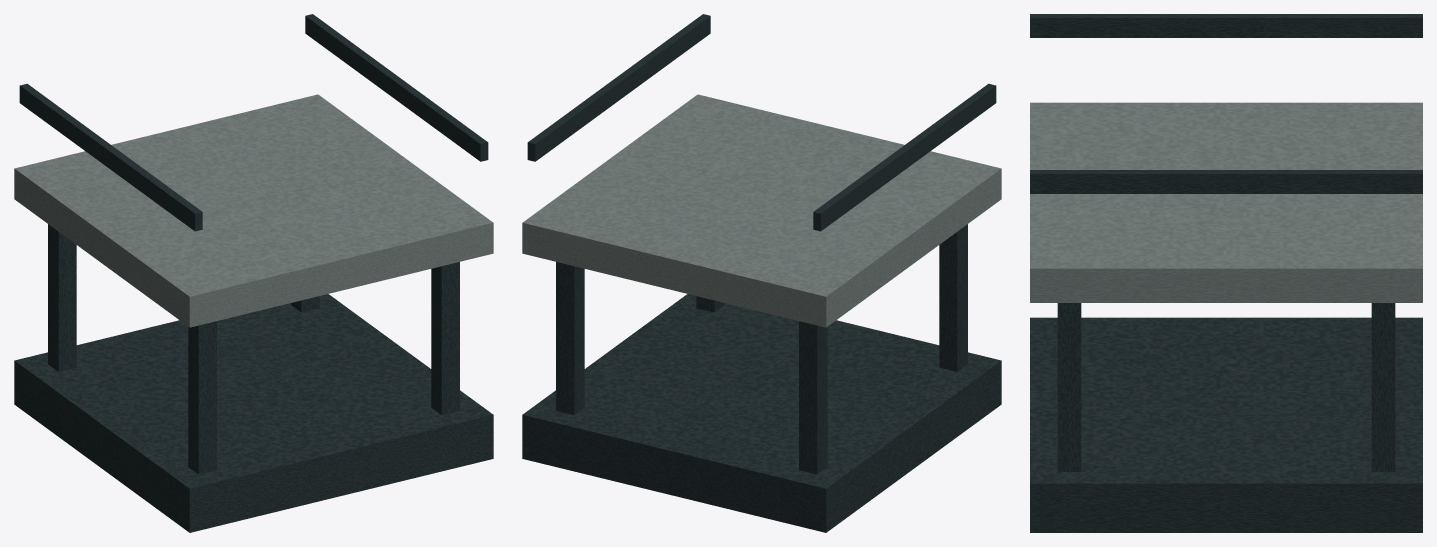
The model's file is maintenance_platform_01.fbx.
The picture shows the model from 3 angles, left to right: view 1: azimuth 30°, elevation 25°; view 2: azimuth 150°, elevation 25°; view 3: azimuth 270°, elevation 25°; orthographic projection. The views are drawn at different scales.
Parts seen in each view (by area): view 1: maintenance_platform_01_LOD0; view 2: maintenance_platform_01_LOD0; view 3: maintenance_platform_01_LOD0.
Part boxes in pixels (x1=…): maintenance_platform_01_LOD0: x1=14, y1=14, x2=493, y2=532; maintenance_platform_01_LOD0: x1=522, y1=14, x2=1001, y2=532; maintenance_platform_01_LOD0: x1=1030, y1=14, x2=1422, y2=532.
Size of what is drawn, in the model's own units: 1 by 1 by 1.
